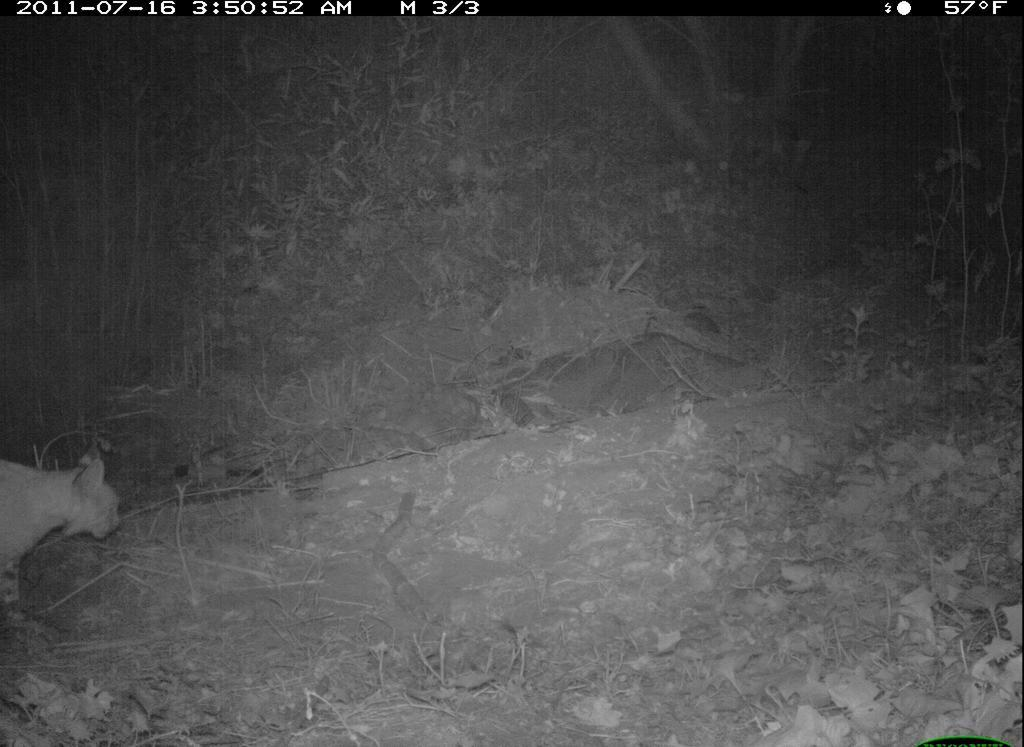bobcat: (8, 443, 132, 619)
